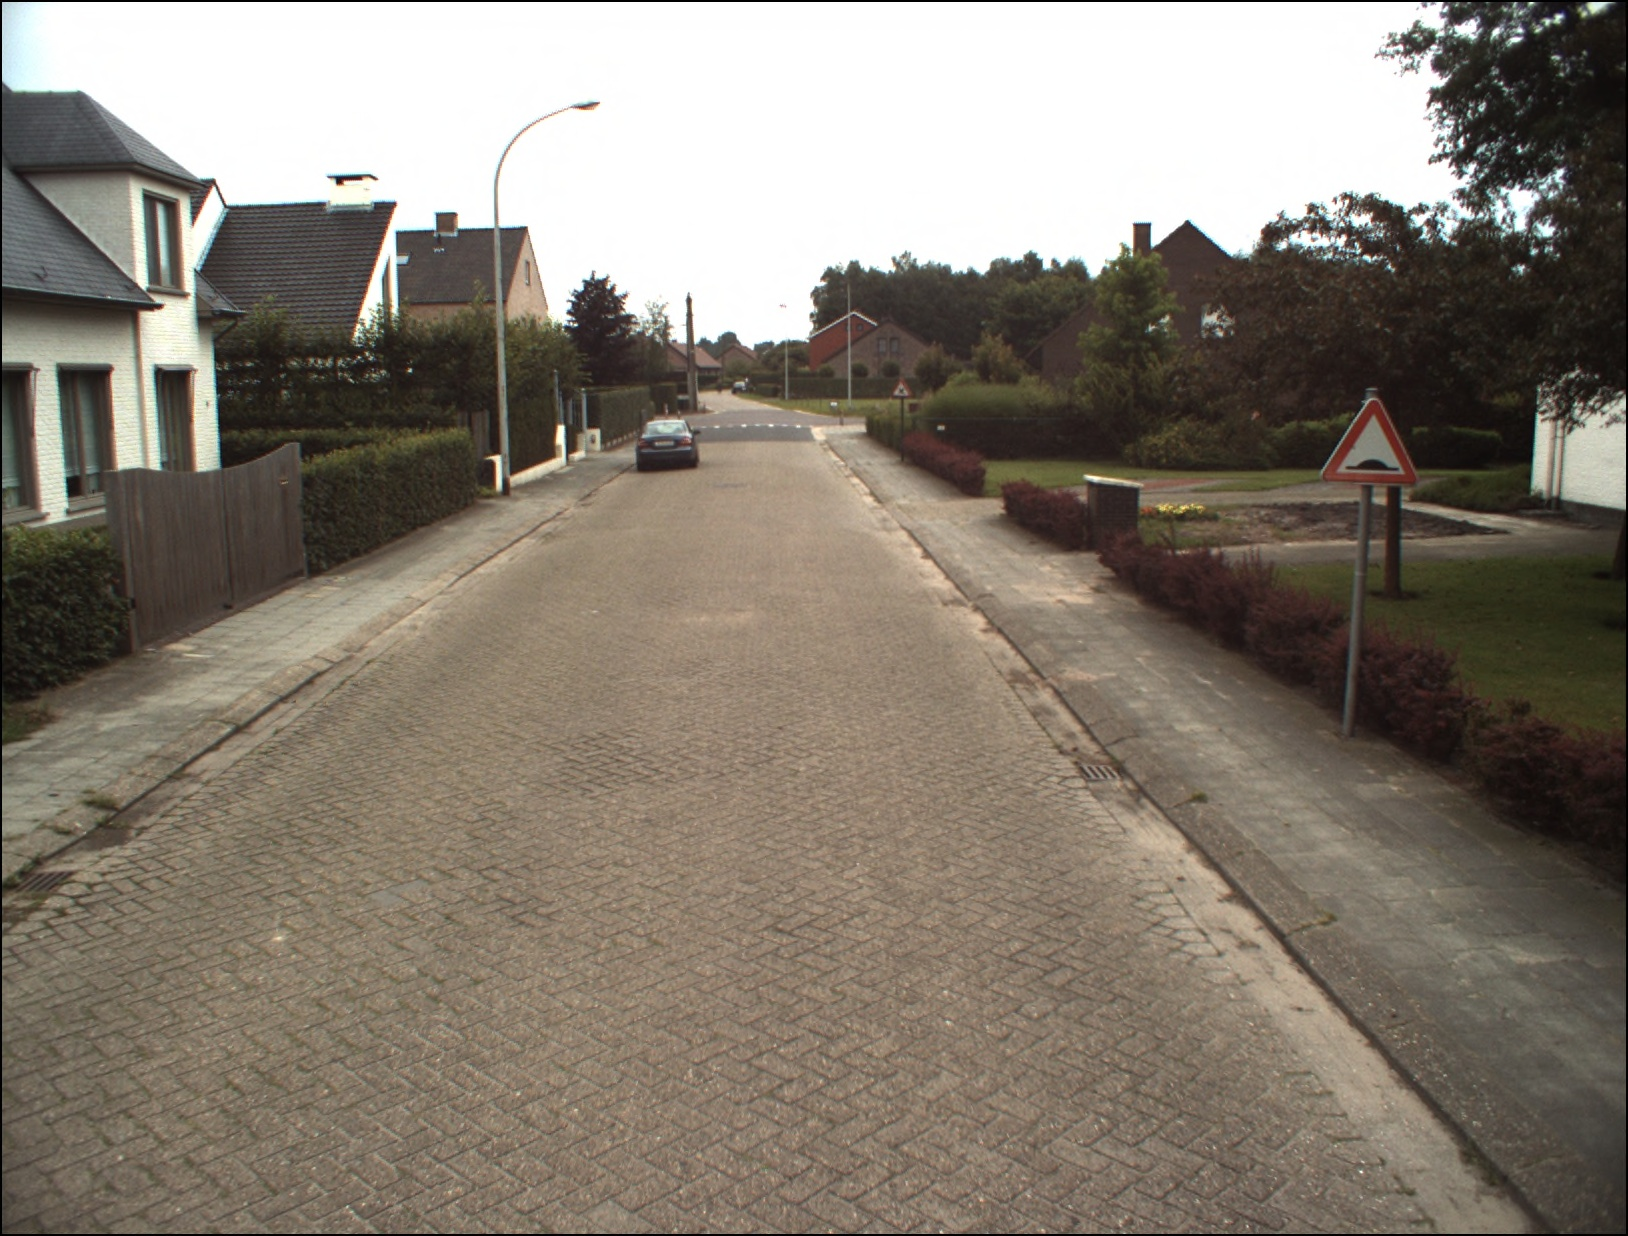speedbump: (1328, 397, 1420, 489)
